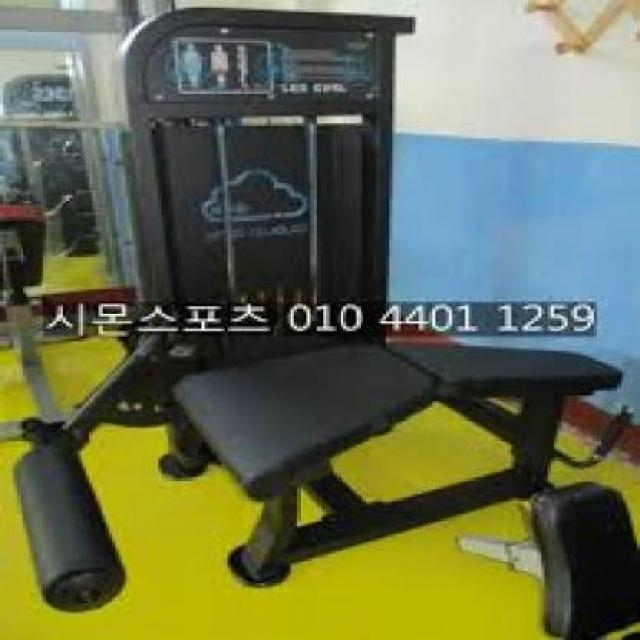reg curl machine: (1, 9, 637, 616)
